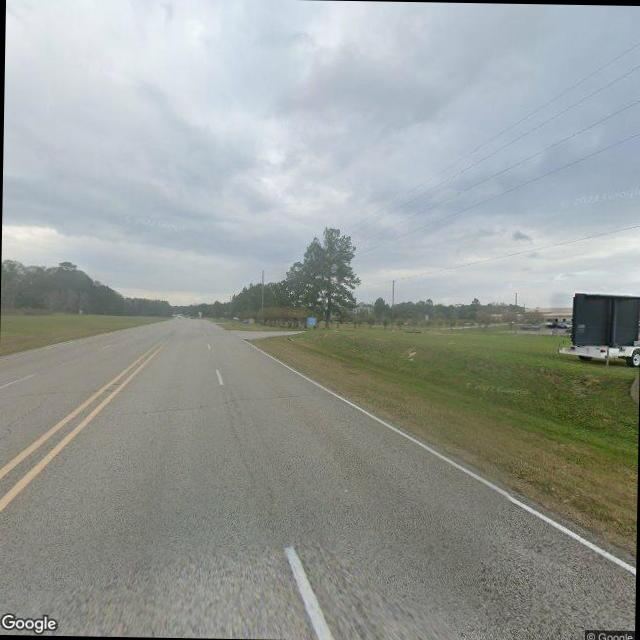crack: (85, 381, 335, 421), (207, 369, 267, 485), (2, 370, 60, 444), (0, 380, 166, 396)
